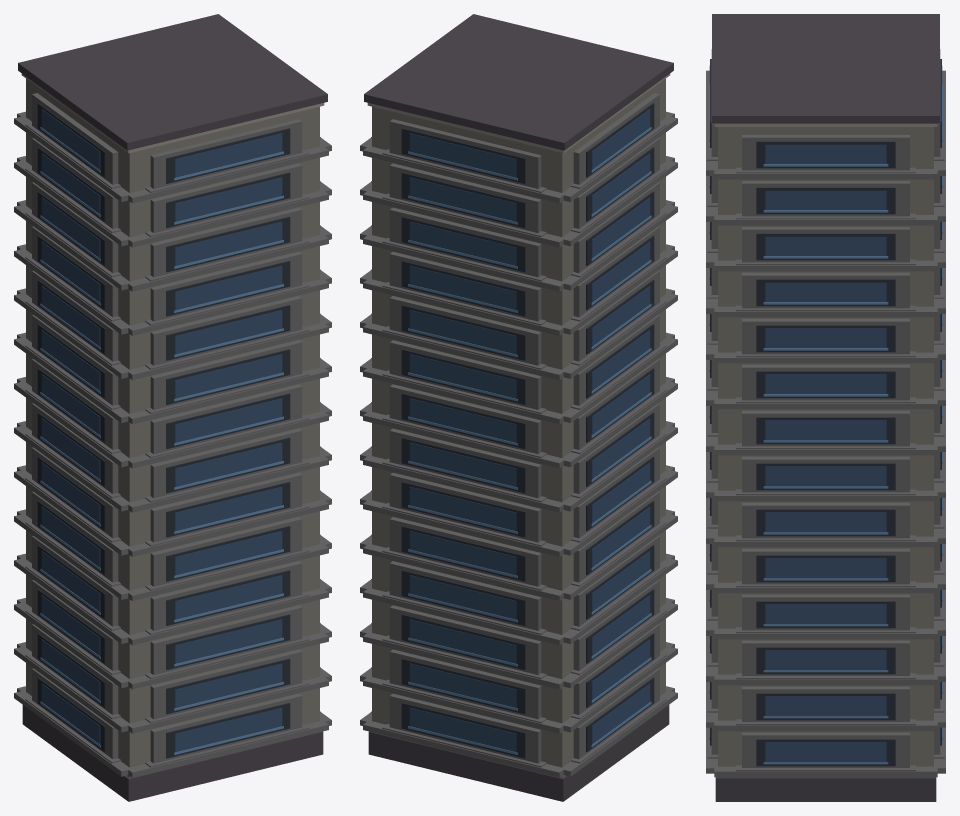
Rendered from TowerWide.obj.
The picture shows the model from 3 angles, left to right: view 1: azimuth 30°, elevation 25°; view 2: azimuth 150°, elevation 25°; view 3: azimuth 270°, elevation 25°; orthographic projection. The views are drawn at different scales.
Parts seen in each view (by area): view 1: TowerWide; view 2: TowerWide; view 3: TowerWide.
Part boxes in pixels (<box>): TowerWide: <box>14,14,331,801</box>; TowerWide: <box>360,14,677,801</box>; TowerWide: <box>706,14,945,801</box>.
Bounding box in the file's own units: 1.36 × 4.08 × 1.29.
